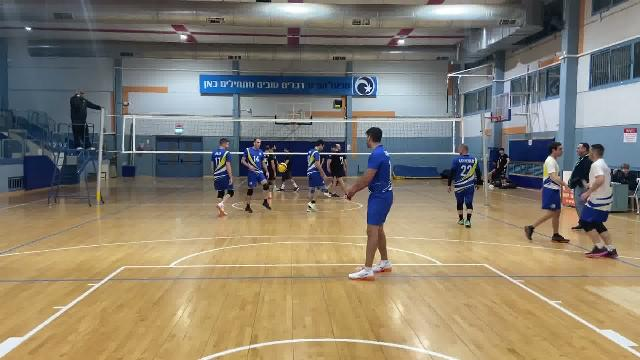ball: (275, 161, 289, 175)
